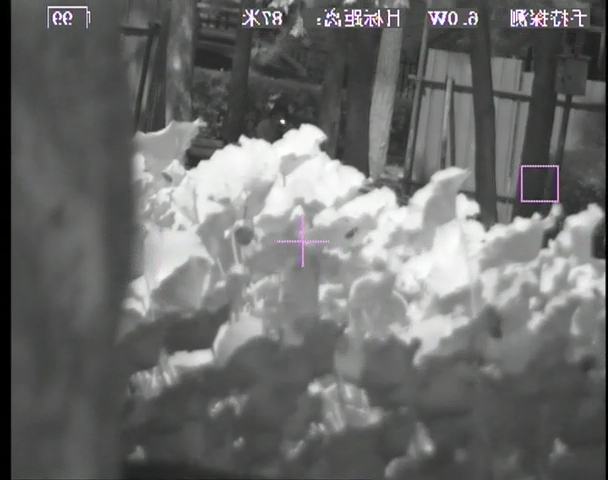my: (279, 116, 287, 127)
